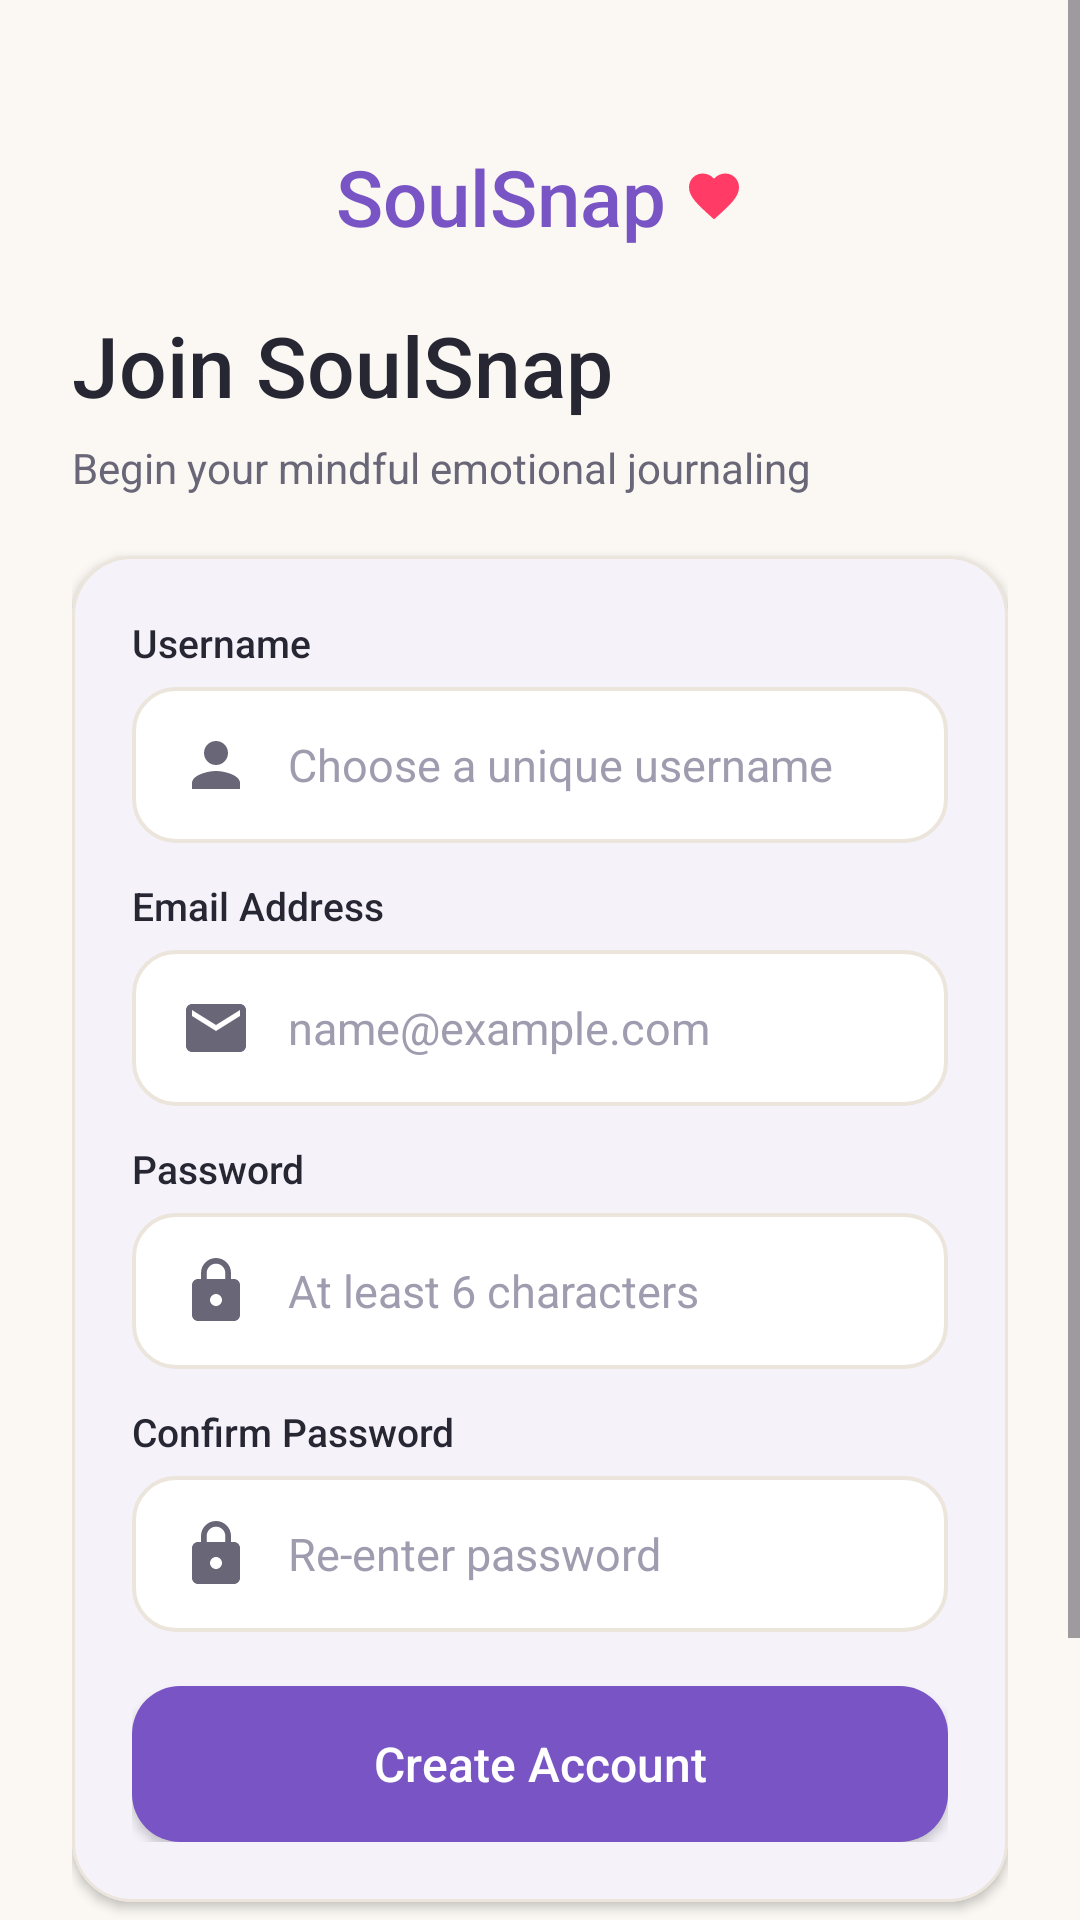

Icon bounding boxes for this 1080*1920 phone screenshot, format bbox=[x1, y1, x2, y2]:
Heart: bbox=[689, 173, 739, 219]
